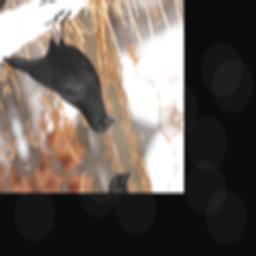Crow: (0, 0, 120, 173)
